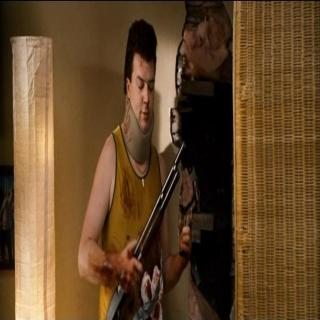gun: (98, 138, 186, 319)
